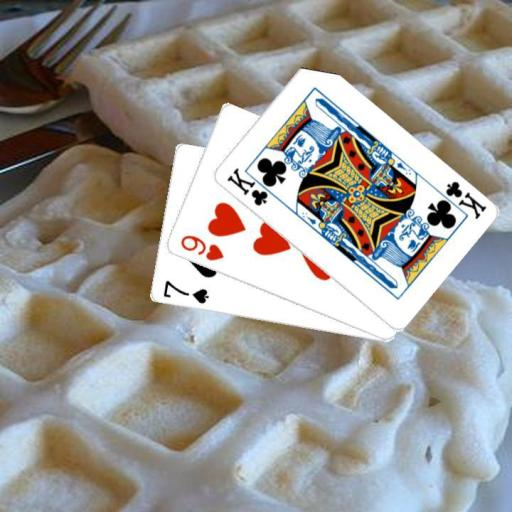7S: (159, 277, 210, 306)
9H: (176, 232, 225, 262)
KC: (223, 164, 279, 208), (432, 178, 488, 220)
